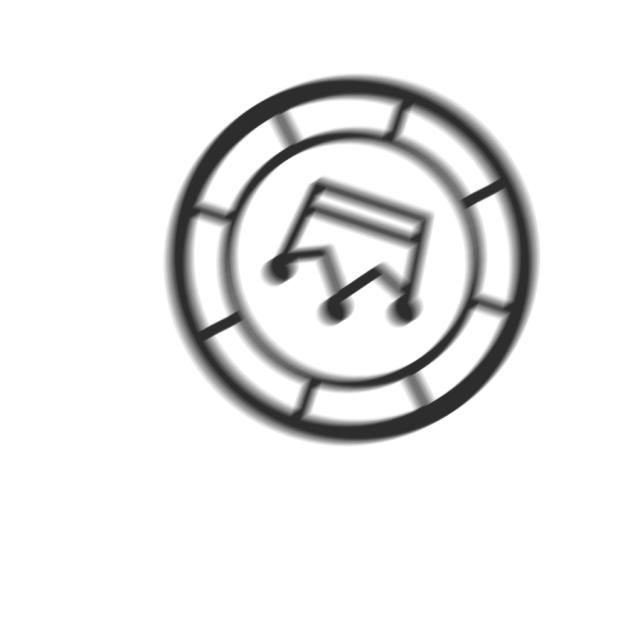coin: (158, 71, 547, 455)
